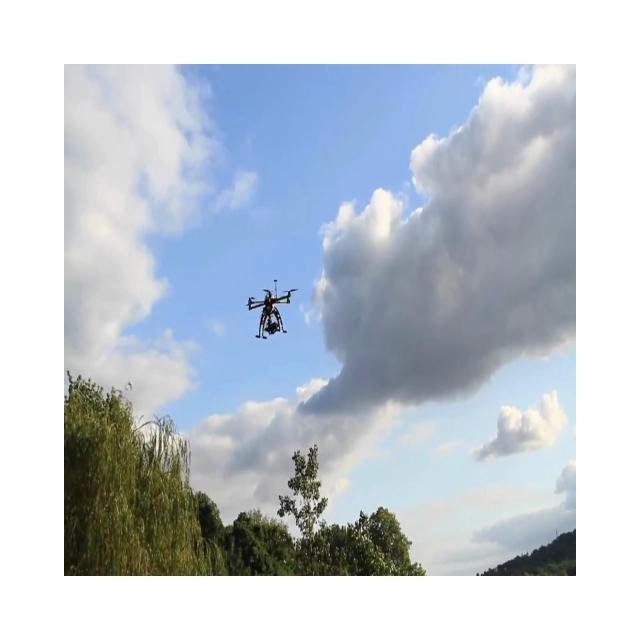drone: (246, 278, 298, 338)
